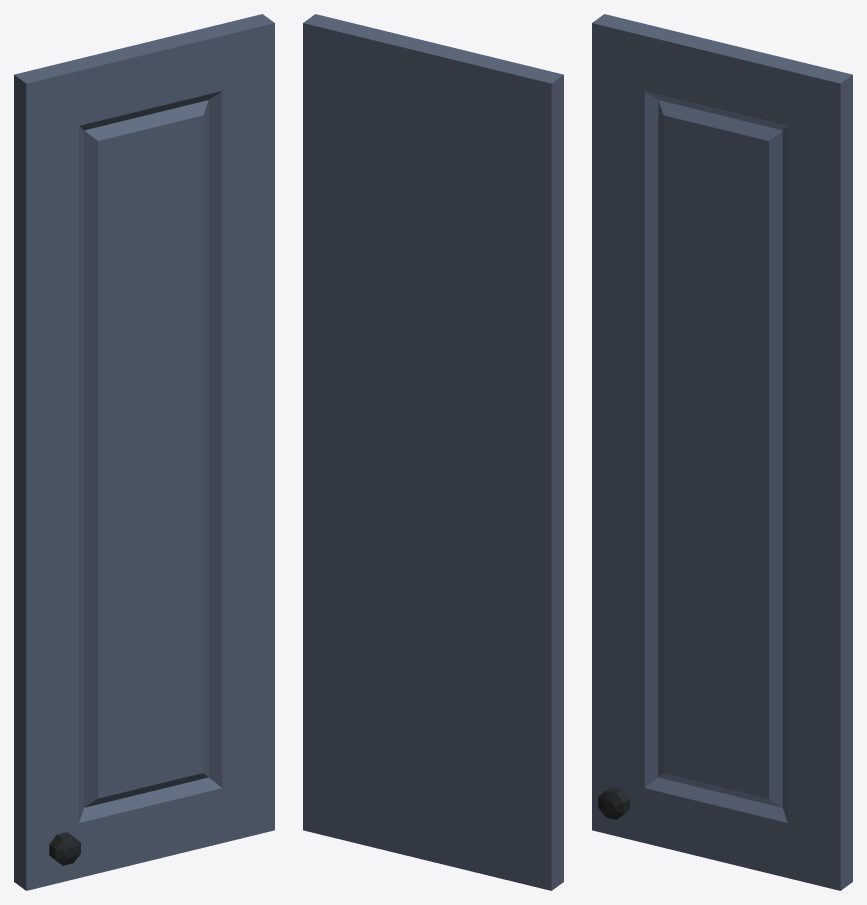
File: Door3_C4_13.fbx
3 views of the same model, side by side, from view 1: azimuth 30°, elevation 25°; view 2: azimuth 150°, elevation 25°; view 3: azimuth 330°, elevation 25° (orthographic).
Parts seen in each view (by area): view 1: Door3_C4_13; view 2: Door3_C4_13; view 3: Door3_C4_13.
Part boxes in pixels (bbox=[...]): Door3_C4_13: bbox=[14, 14, 274, 890]; Door3_C4_13: bbox=[303, 14, 563, 890]; Door3_C4_13: bbox=[592, 14, 852, 890].
Bounding box in the file's own units: 29 × 90 × 5.19.
